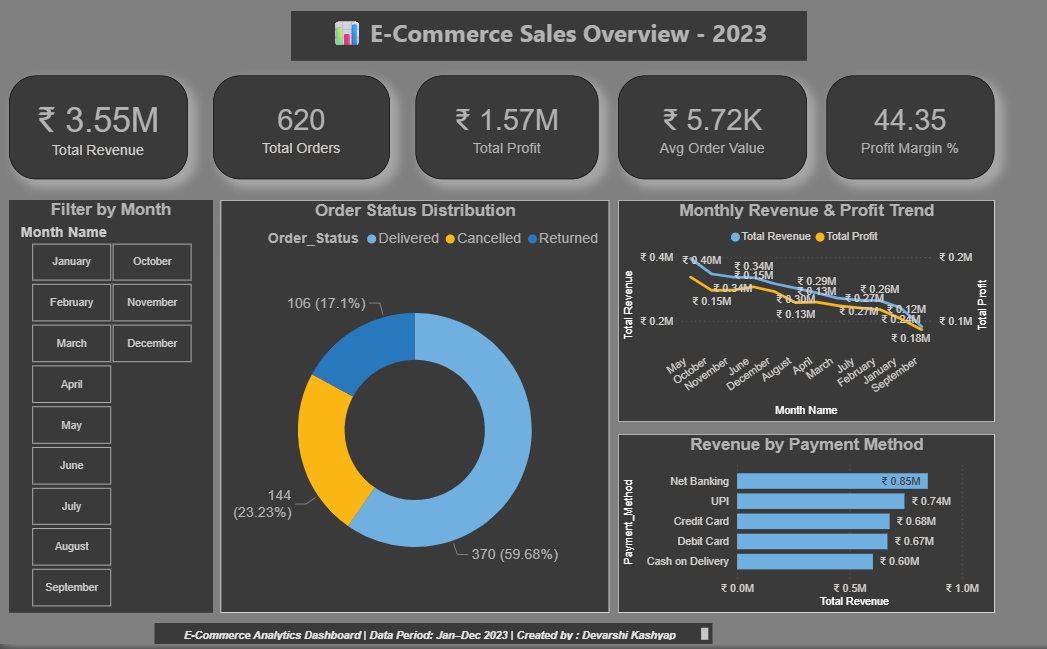

The dashboard page shown, as its layout file describes it:
{"tool":"powerbi","page":{"name":"Sales Overview","canvas":[1280,720],"ordinal":0},"visuals":[{"type":"card","fields":{"Values":["_Measures.Total Revenue"]},"box":[10,88.3,198.3,115],"z":0},{"type":"card","fields":{"Values":["_Measures.Total Orders"]},"box":[236.7,88.3,196.7,115],"z":1},{"type":"card","fields":{"Values":["_Measures.Total Profit"]},"box":[461.7,88.3,203.3,115],"z":2},{"type":"card","fields":{"Values":["_Measures.Avg Order Value"]},"box":[686.7,88.3,210,115],"z":3},{"type":"card","fields":{"Values":["_Measures.Profit Margin %"]},"box":[918.3,88.3,186.7,115],"z":4},{"type":"lineChart","title":"Monthly Revenue & Profit Trend","fields":{"Category":["Date_Table.Month Name"],"Y":["_Measures.Total Revenue"],"Y2":["_Measures.Total Profit"]},"box":[686.7,226.7,418.3,246.7],"z":5},{"type":"donutChart","title":"Order Status Distribution","fields":{"Category":["Sales_data.Order_Status"],"Y":["_Measures.Total Orders"]},"box":[245,226.7,431.7,458.3],"z":6},{"type":"clusteredBarChart","title":"Revenue by Payment Method","fields":{"Category":["Sales_data.Payment_Method"],"Y":["_Measures.Total Revenue"]},"box":[686.7,486.7,418.3,198.3],"z":7},{"type":"slicer","title":"Filter by Month","fields":{"Values":["Date_Table.Month Name"]},"box":[10,226.7,226.7,458.3],"z":8},{"type":"textbox","box":[323.3,16.7,573.3,55],"z":9},{"type":"textbox","box":[171.7,696.7,620,23.3],"z":10}]}

Visuals, with their boxes on the page's 1280x720 design canvas (x1, y1, x2, y2). These are canvas units, not pixel positions in the 1047x649 screenshot, which may show the page scaled, cropped or inside an application window:
card - _Measures.Total Revenue: left=10, top=88, right=208, bottom=203
card - _Measures.Total Orders: left=237, top=88, right=433, bottom=203
card - _Measures.Total Profit: left=462, top=88, right=665, bottom=203
card - _Measures.Avg Order Value: left=687, top=88, right=897, bottom=203
card - _Measures.Profit Margin %: left=918, top=88, right=1105, bottom=203
"Monthly Revenue & Profit Trend" lineChart: left=687, top=227, right=1105, bottom=473
"Order Status Distribution" donutChart: left=245, top=227, right=677, bottom=685
"Revenue by Payment Method" clusteredBarChart: left=687, top=487, right=1105, bottom=685
"Filter by Month" slicer: left=10, top=227, right=237, bottom=685
textbox: left=323, top=17, right=897, bottom=72
textbox: left=172, top=697, right=792, bottom=720
